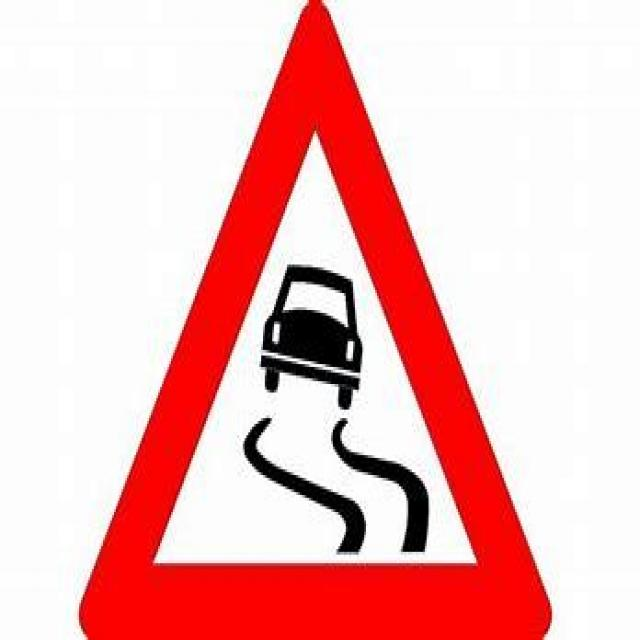SLIPPERY_ROAD: (77, 0, 552, 637)
